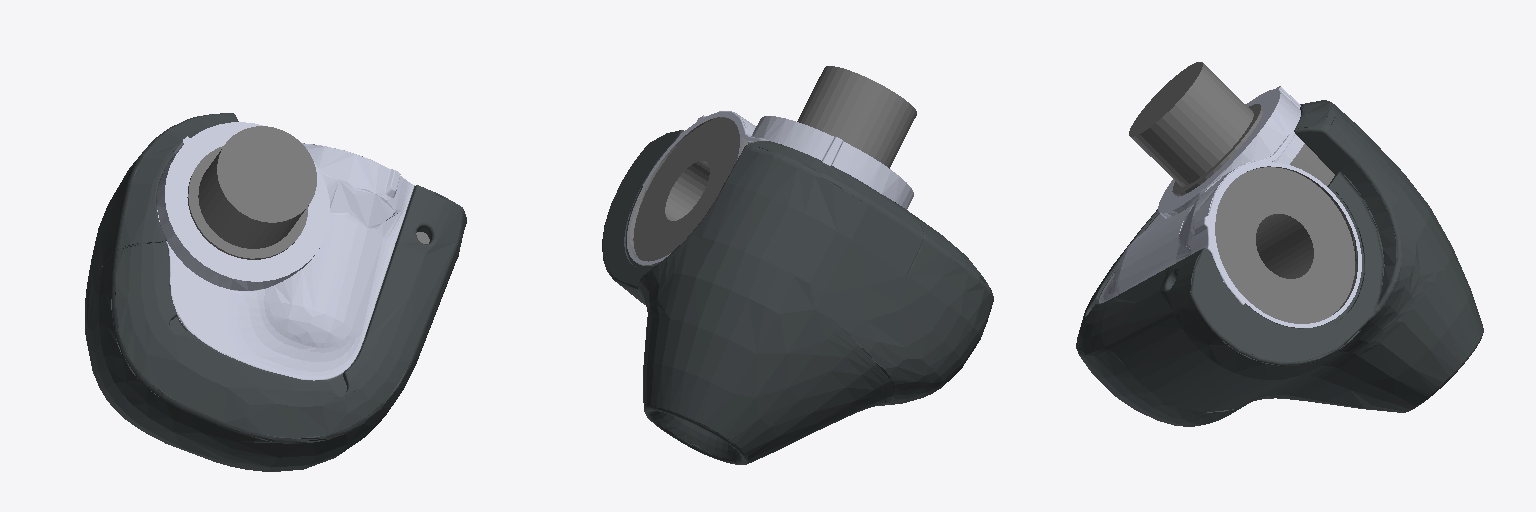
File: IRB14000_rev00_Link6_R.obj
The picture shows the model from 3 angles: view 1: azimuth 30°, elevation 25°; view 2: azimuth 150°, elevation 25°; view 3: azimuth 270°, elevation 25°; orthographic projection.
Parts seen in each view (by area): view 1: Link6_R3.0, Link6_R3.0-1, Link6_R3.0-2; view 2: Link6_R3.0, Link6_R3.0-2, Link6_R3.0-1; view 3: Link6_R3.0, Link6_R3.0-2, Link6_R3.0-1.
Part boxes in pixels (bbox=[...]): Link6_R3.0: bbox=[85, 113, 466, 471]; Link6_R3.0-1: bbox=[157, 122, 414, 380]; Link6_R3.0-2: bbox=[176, 126, 429, 330]; Link6_R3.0: bbox=[602, 130, 993, 464]; Link6_R3.0-2: bbox=[630, 66, 916, 265]; Link6_R3.0-1: bbox=[627, 111, 913, 264]; Link6_R3.0: bbox=[1076, 100, 1483, 426]; Link6_R3.0-2: bbox=[1129, 62, 1357, 328]; Link6_R3.0-1: bbox=[1099, 86, 1361, 327].
Bounding box in the file's own units: 0.1187 × 0.107 × 0.1178.